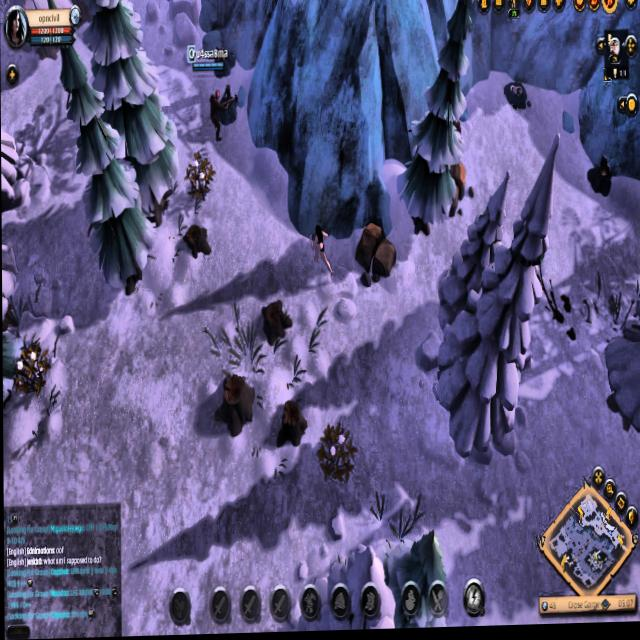copper_ore: (586, 162, 623, 202)
cotton: (9, 339, 56, 399), (317, 430, 362, 490), (187, 158, 219, 201)
limestone: (353, 220, 399, 292)
